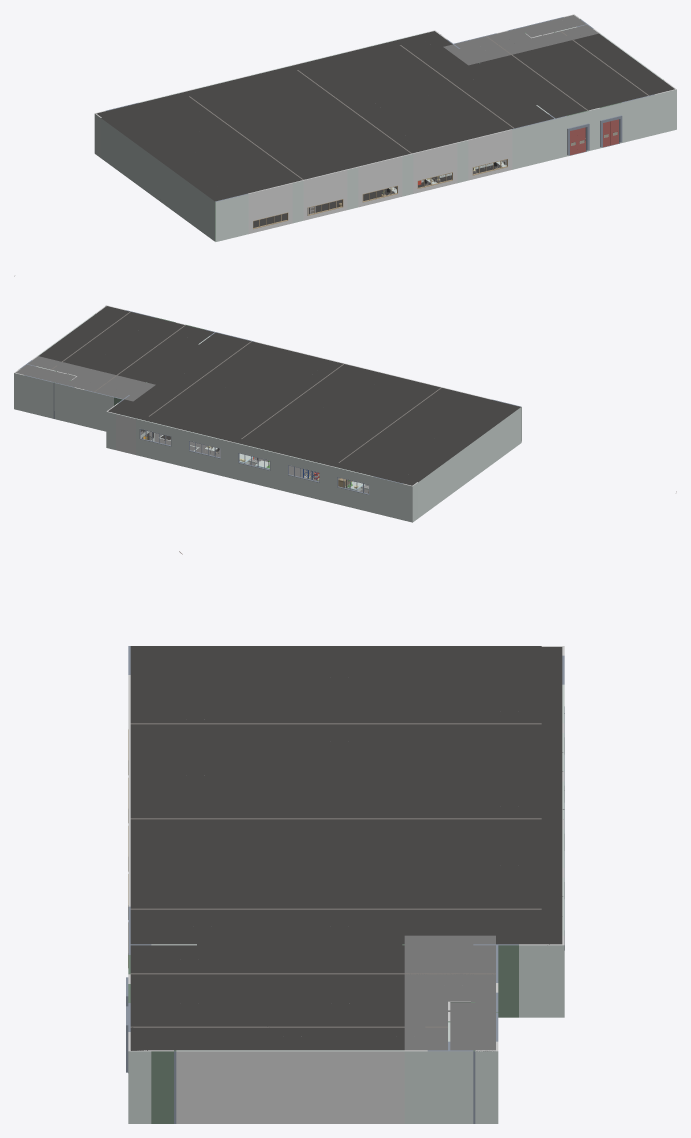
Rendered from factory.gltf.
3 views of the same model, one above another, from view 1: azimuth 30°, elevation 25°; view 2: azimuth 150°, elevation 25°; view 3: azimuth 270°, elevation 25° (orthographic). The views are drawn at different scales.
Visible parts, largest first — view 1: SM_Ground_1209, SM_Ground_1208, SM_Ground_1217, SM_Ground_1218, SM_Ground_1219, SM_Ground_1210, SM_Ground_1215, SM_Ground_1220, SM_Ground_1211, SM_Ground_1212, SM_Ground_1213, SM_Ground_1214 (+31 smaller); view 2: SM_Ground_1219, SM_Ground_1218, SM_Ground_1210, SM_Ground_1208, SM_Ground_1209, SM_Ground_1215, SM_Ground_1217, SM_Ground_1211, SM_Ground_1213, SM_Ground_1222, SM_Ground_1212, SM_Ground_1221 (+31 smaller); view 3: SM_Ground_1217, SM_Ground_1218, SM_Ground_1219, SM_Ground_1220, SM_Ground_1221, SM_Ground_1222, SM_Ground_1224, SM_Ground_1223, SM_Ground_1208, SM_Ground_1209, SM_Ground_1210, SM_Ground_1211 (+32 smaller).
Boxes of the visible parts, x1,y1,x2,y2 form: SM_Ground_1209: (139,130,242,173); SM_Ground_1208: (177,157,280,201); SM_Ground_1217: (375,109,478,152); SM_Ground_1218: (337,81,439,125); SM_Ground_1219: (299,53,402,97); SM_Ground_1210: (101,102,204,145); SM_Ground_1215: (271,97,374,141); SM_Ground_1220: (441,93,544,136); SM_Ground_1211: (243,141,346,185); SM_Ground_1212: (205,113,308,157); SM_Ground_1213: (167,86,270,129); SM_Ground_1214: (309,125,412,169); SM_Ground_1219: (181,399,274,438); SM_Ground_1218: (216,374,308,413); SM_Ground_1210: (359,443,452,482); SM_Ground_1208: (428,392,520,431); SM_Ground_1209: (393,417,486,456); SM_Ground_1215: (275,389,367,427); SM_Ground_1217: (250,349,342,388); SM_Ground_1211: (368,378,461,417); SM_Ground_1213: (300,428,392,467); SM_Ground_1222: (122,385,214,424); SM_Ground_1212: (334,403,426,442); SM_Ground_1221: (156,360,249,399); SM_Ground_1217: (130,819,267,877); SM_Ground_1218: (267,819,404,877); SM_Ground_1219: (404,819,541,877); SM_Ground_1220: (130,877,267,935); SM_Ground_1221: (267,877,404,935); SM_Ground_1222: (404,877,541,935); SM_Ground_1224: (267,935,404,993); SM_Ground_1223: (130,935,267,993); SM_Ground_1208: (130,646,267,703); SM_Ground_1209: (267,646,404,703); SM_Ground_1210: (404,646,541,703); SM_Ground_1211: (130,704,267,761).
Size of the model in its own units: 118 by 7.07 by 38.44.
Materials: 53 (16 with a texture image).
